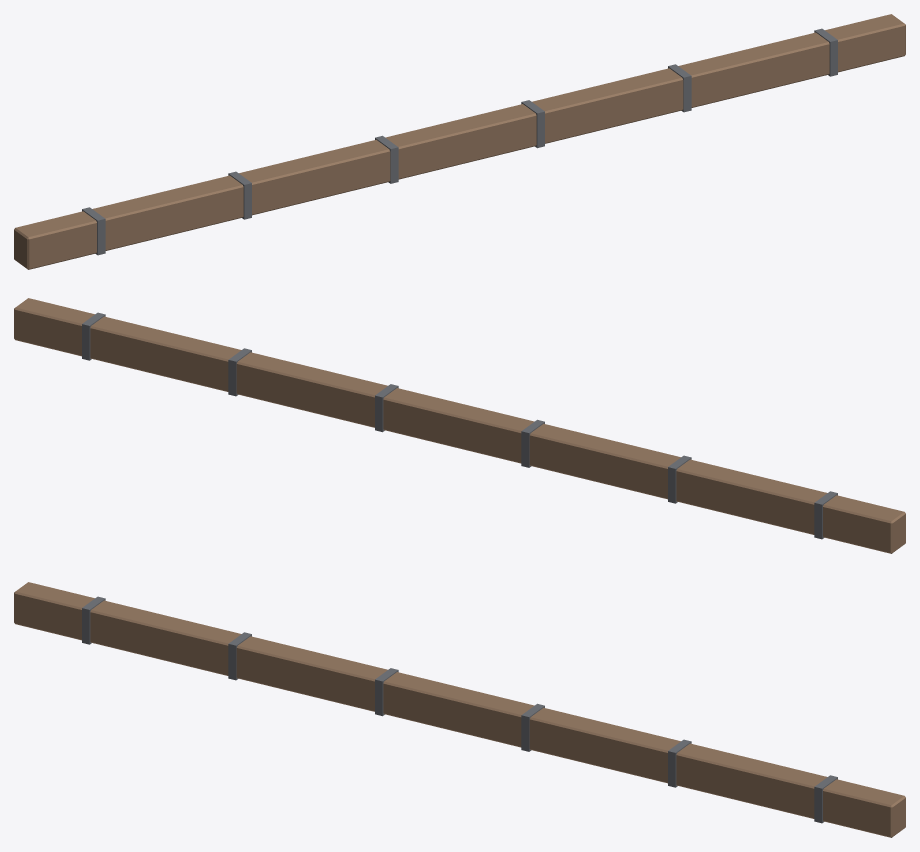
File: Garage_Beam.glb
The picture shows the model from 3 angles, top to bottom: view 1: azimuth 30°, elevation 25°; view 2: azimuth 150°, elevation 25°; view 3: azimuth 330°, elevation 25°; orthographic projection.
Visible parts, largest first — view 1: Garage_Beam; view 2: Garage_Beam; view 3: Garage_Beam.
Part boxes in pixels (box(x1,y1,x2,y2)): Garage_Beam: box(14, 14, 905, 269); Garage_Beam: box(14, 298, 905, 553); Garage_Beam: box(14, 582, 905, 837).
Bounding box in the file's own units: 9 × 0.34 × 0.28.
